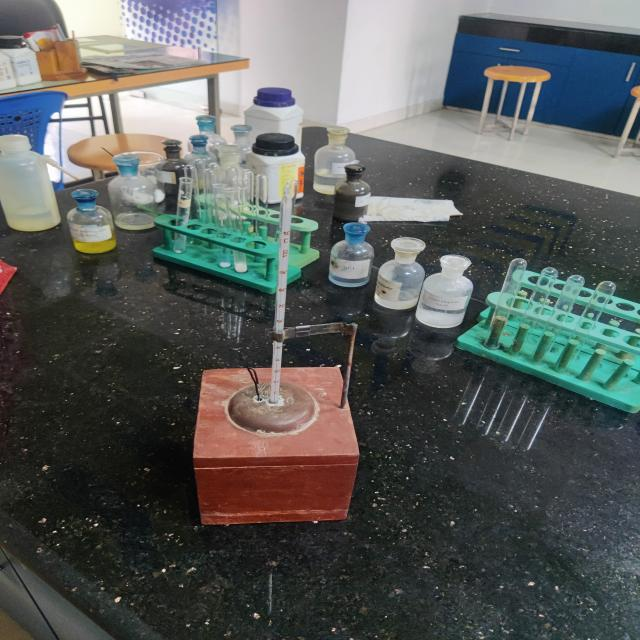Calorimeter: (154, 160, 412, 566)
